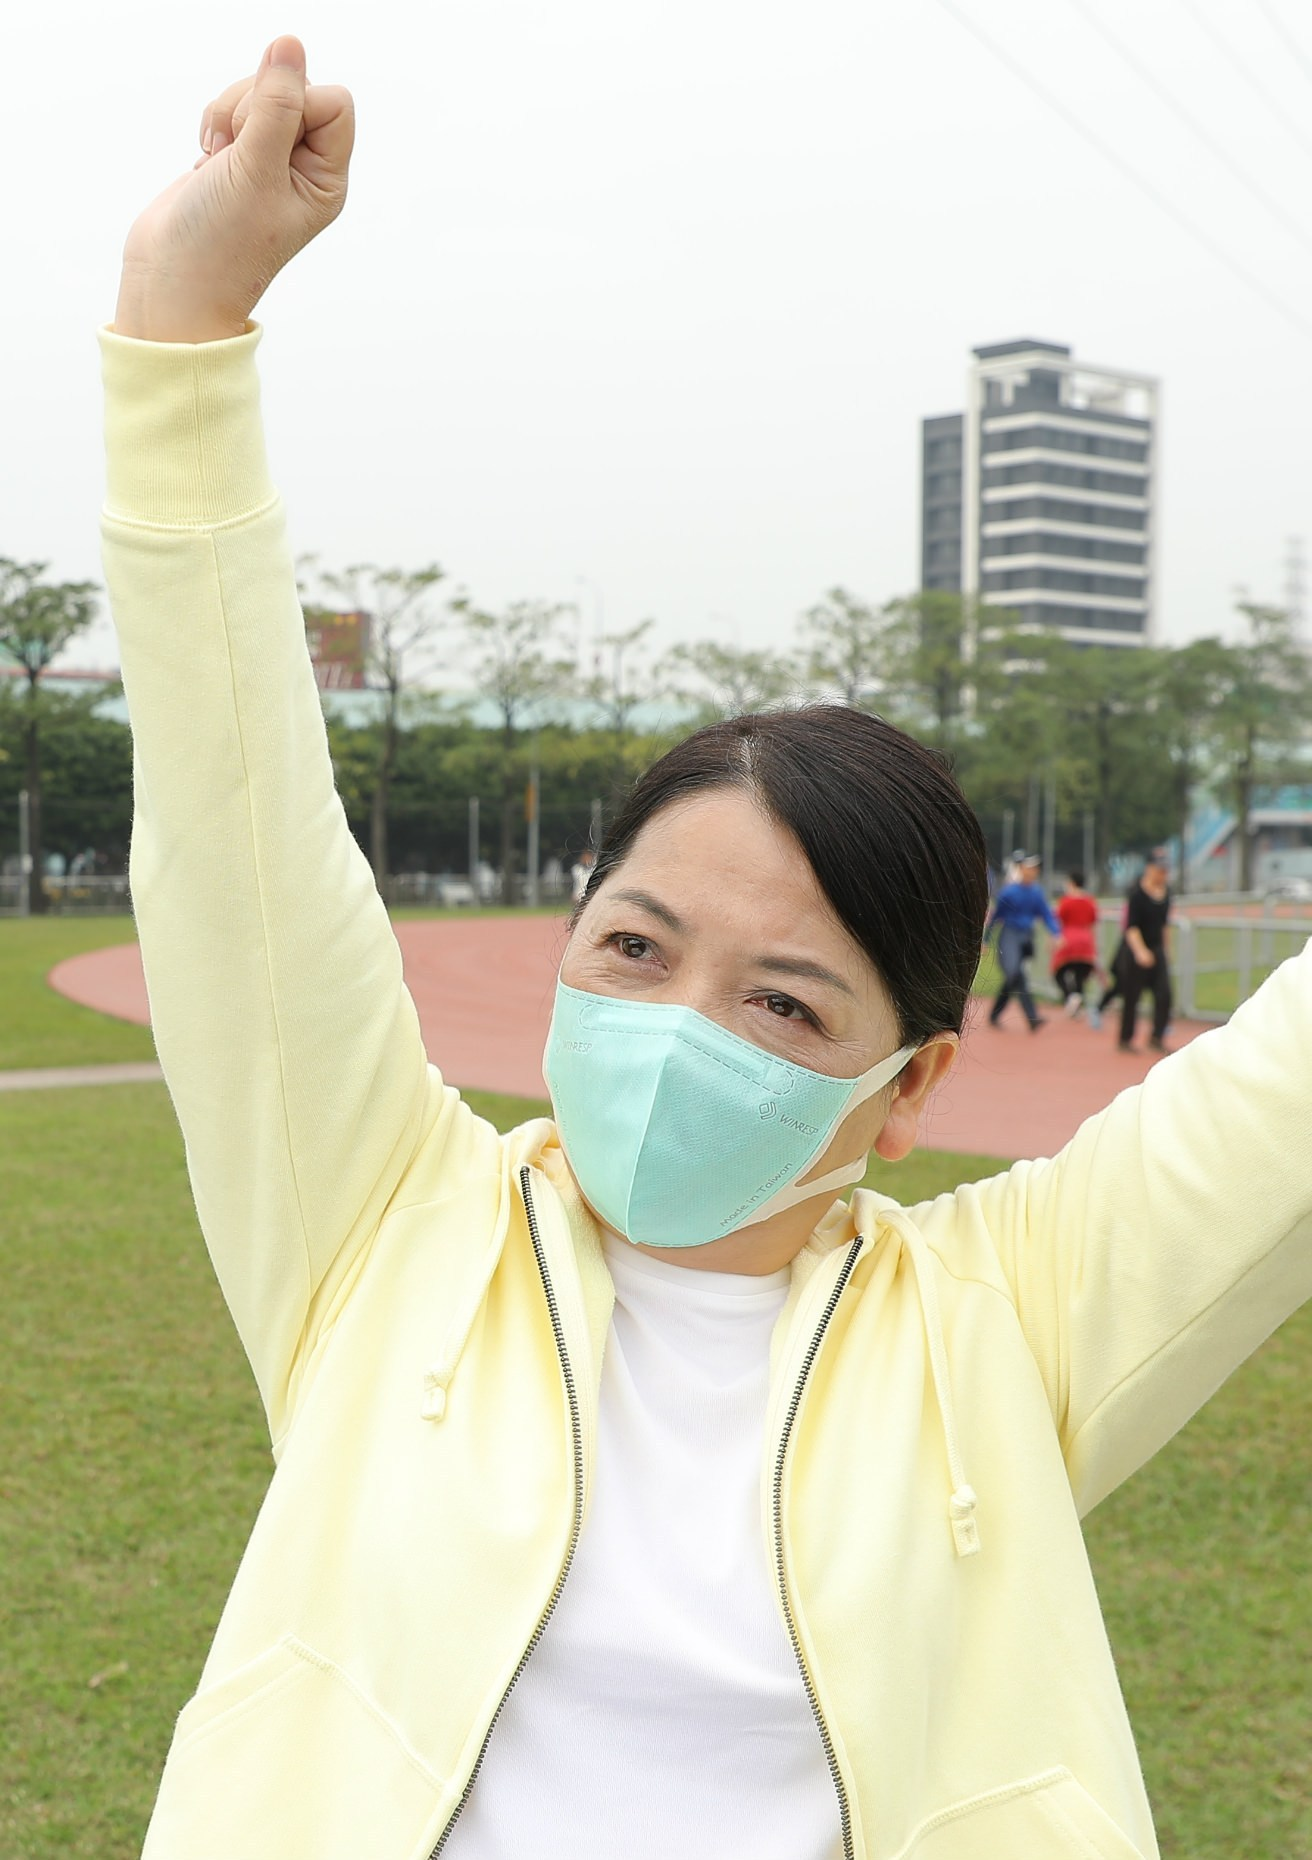mask: (534, 985, 875, 1259)
